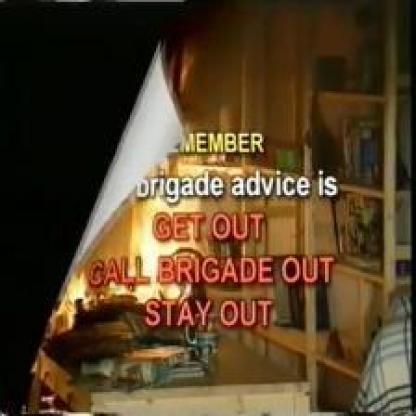fire: (105, 159, 211, 294), (58, 273, 98, 322)
